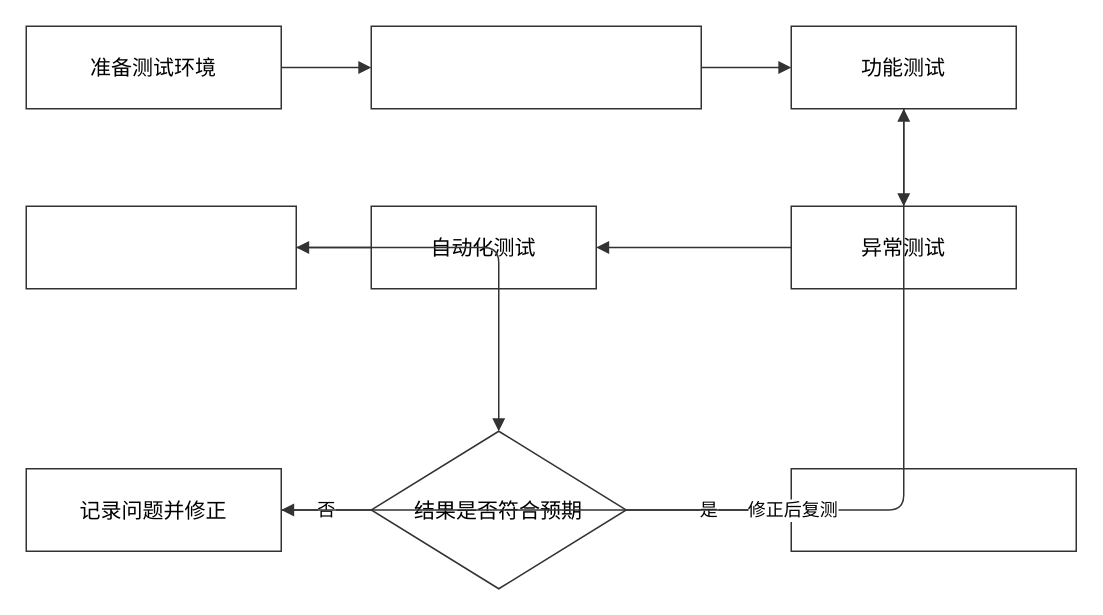
Image size: 1103x615. Some labels were removed from this diagram. Each missing label, with the centre of its shape:
"benchmark 辅助评估" belongs at (x=160, y=247).
"准备视频、图文、人脸样本" belongs at (x=535, y=67).
"整理测试结果与局限" belongs at (x=933, y=509).
